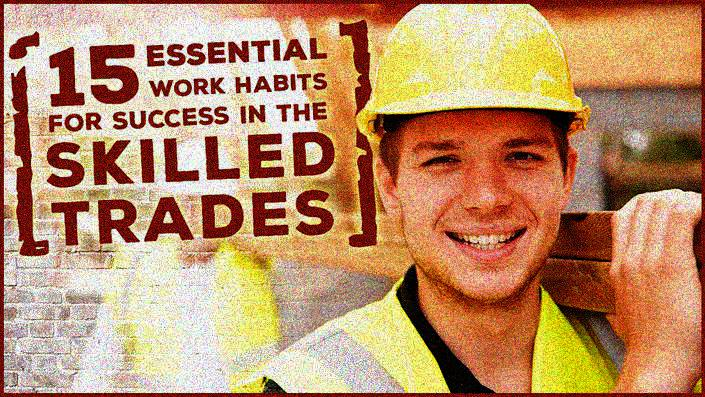helmet: (355, 1, 593, 302)
